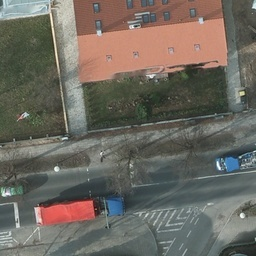car: (1, 181, 25, 198)
